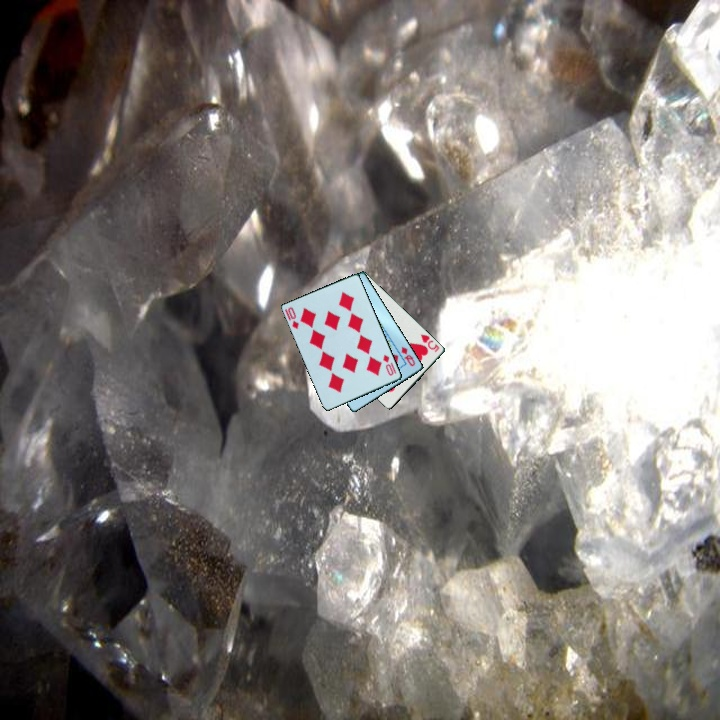10d: (282, 304, 302, 332), (380, 351, 399, 379)
5h: (417, 331, 442, 355)
Qd: (398, 343, 418, 369)
